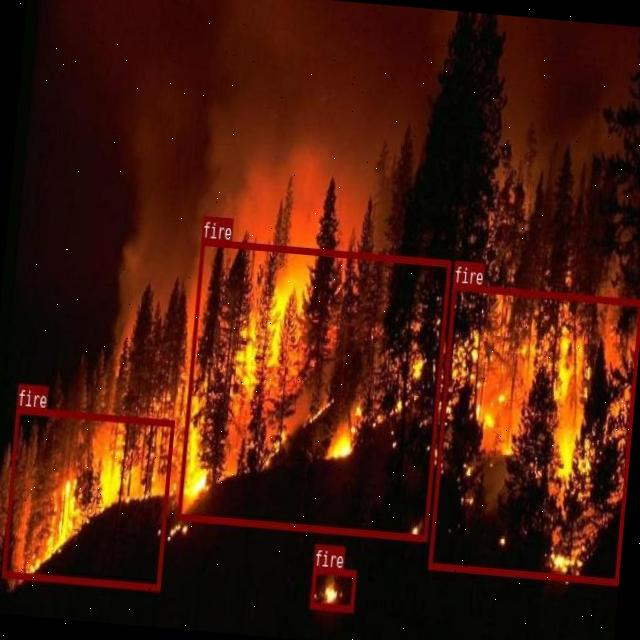fire: (176, 237, 450, 539), (427, 281, 640, 582), (2, 406, 174, 589), (310, 565, 356, 611)
